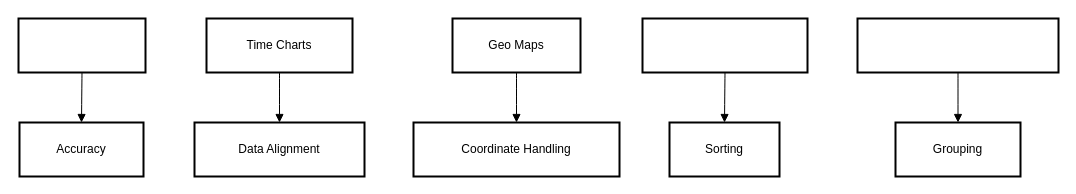
This 1076x194 diagram has some shape labels left out. The box of each missing label's shape, as (x1, y1, x2, y2) in pixels:
Customer Segments: (856, 17, 1059, 73)
KPI Cards: (17, 17, 146, 73)
Product Matrix: (641, 17, 808, 73)
